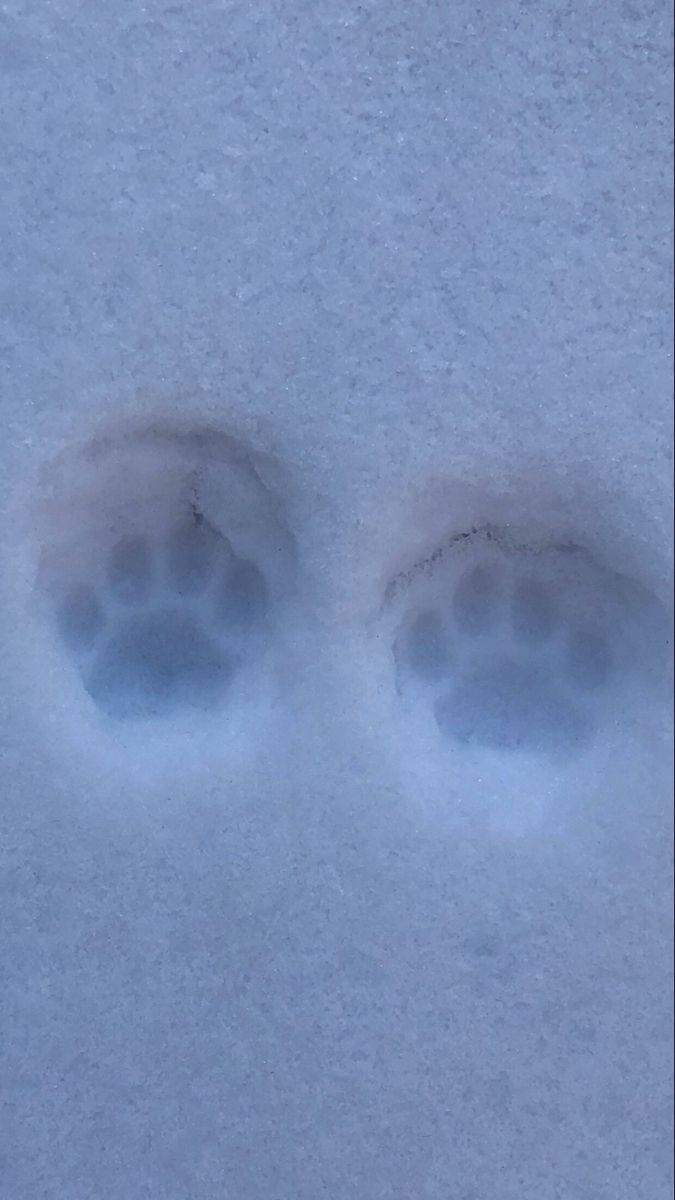cat: (53, 494, 282, 753), (379, 582, 622, 772)
